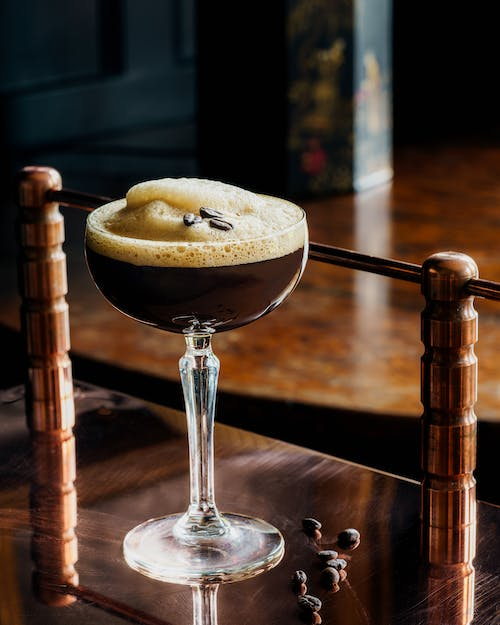alcohol: (81, 186, 310, 585)
